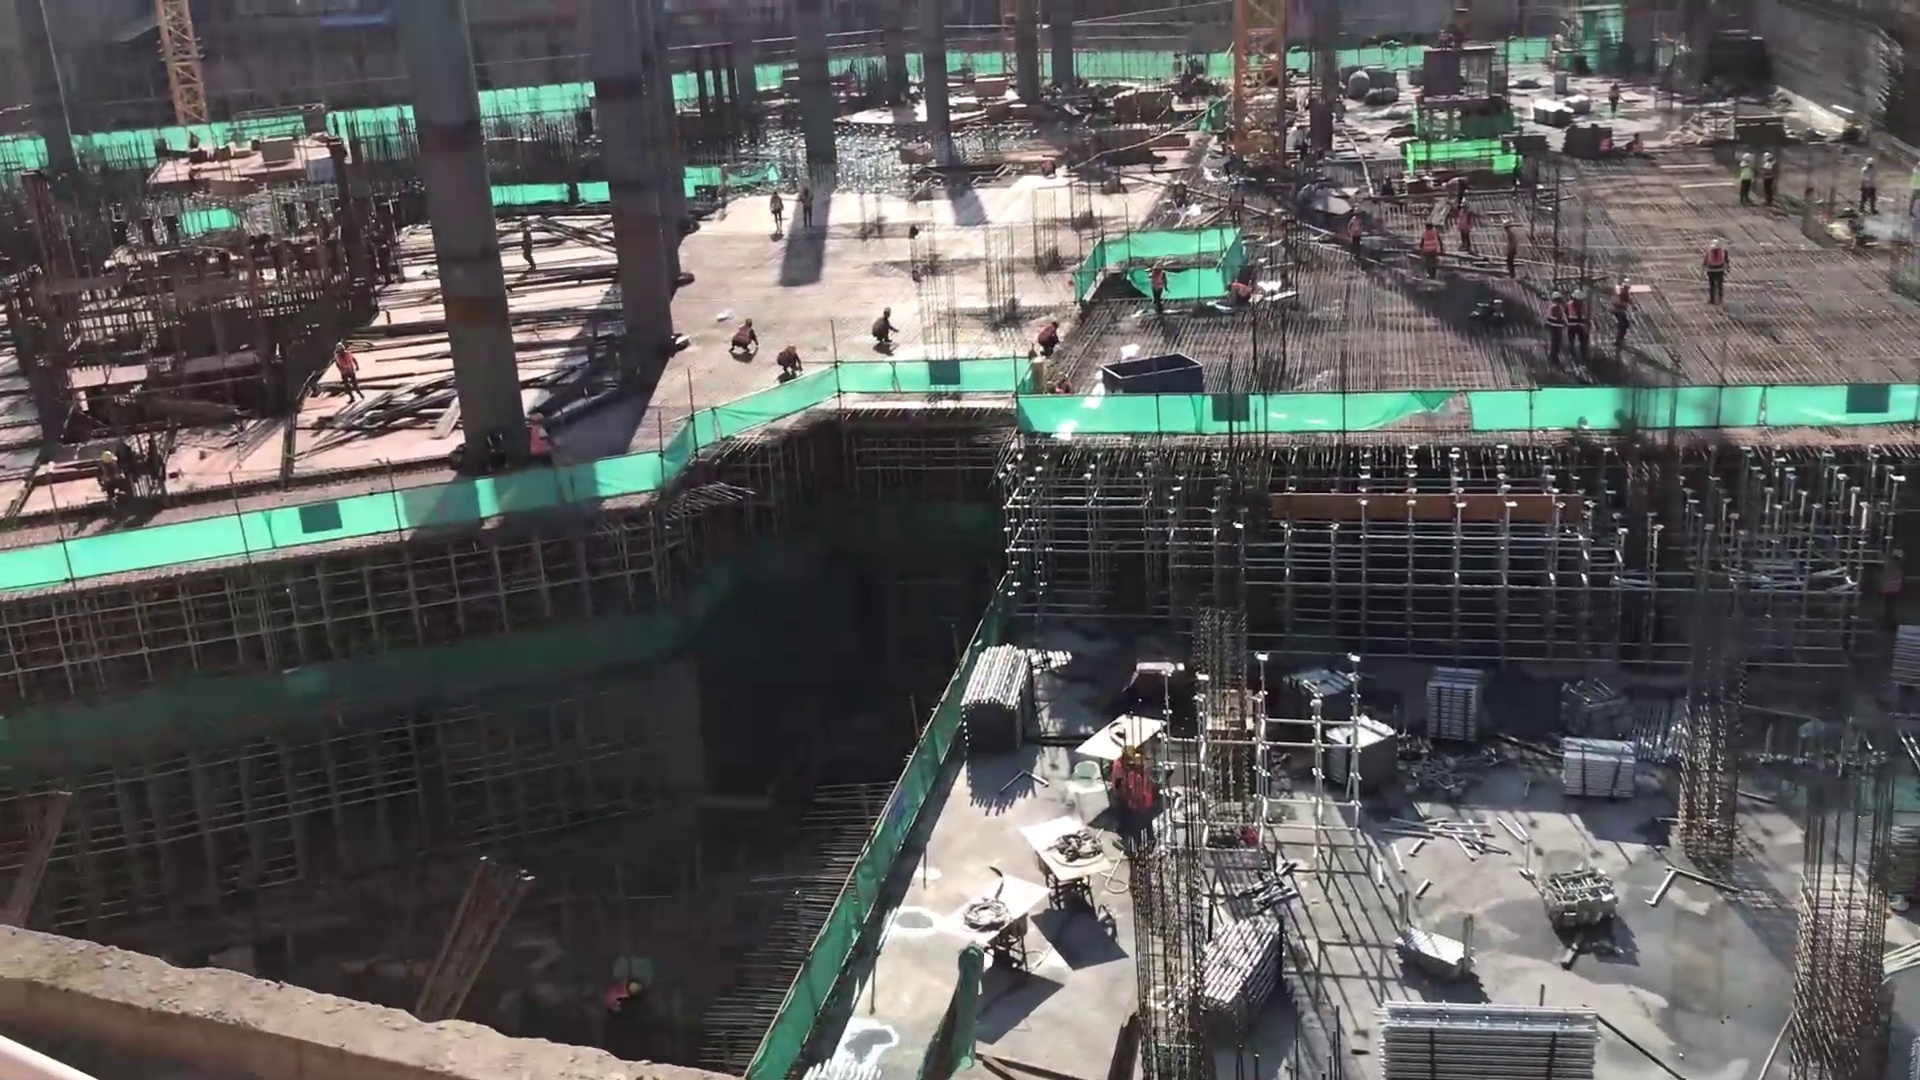person: (94, 449, 130, 519), (1106, 738, 1136, 815), (1130, 756, 1154, 845), (328, 341, 364, 398), (1611, 278, 1634, 351), (1566, 288, 1589, 358), (519, 411, 550, 461), (1705, 239, 1728, 304), (1542, 291, 1563, 360), (870, 306, 900, 351), (1035, 317, 1060, 362), (1420, 220, 1440, 278), (1148, 259, 1168, 312), (520, 215, 538, 272), (1860, 157, 1877, 218), (731, 320, 759, 355), (1501, 219, 1516, 278), (1761, 149, 1776, 208), (1225, 279, 1252, 312), (797, 183, 815, 229), (1226, 179, 1245, 225), (1737, 151, 1753, 205), (1457, 197, 1472, 253), (777, 344, 802, 376), (1349, 207, 1363, 260), (769, 187, 783, 235), (1607, 80, 1620, 115), (1623, 132, 1643, 151), (1599, 134, 1612, 154)
